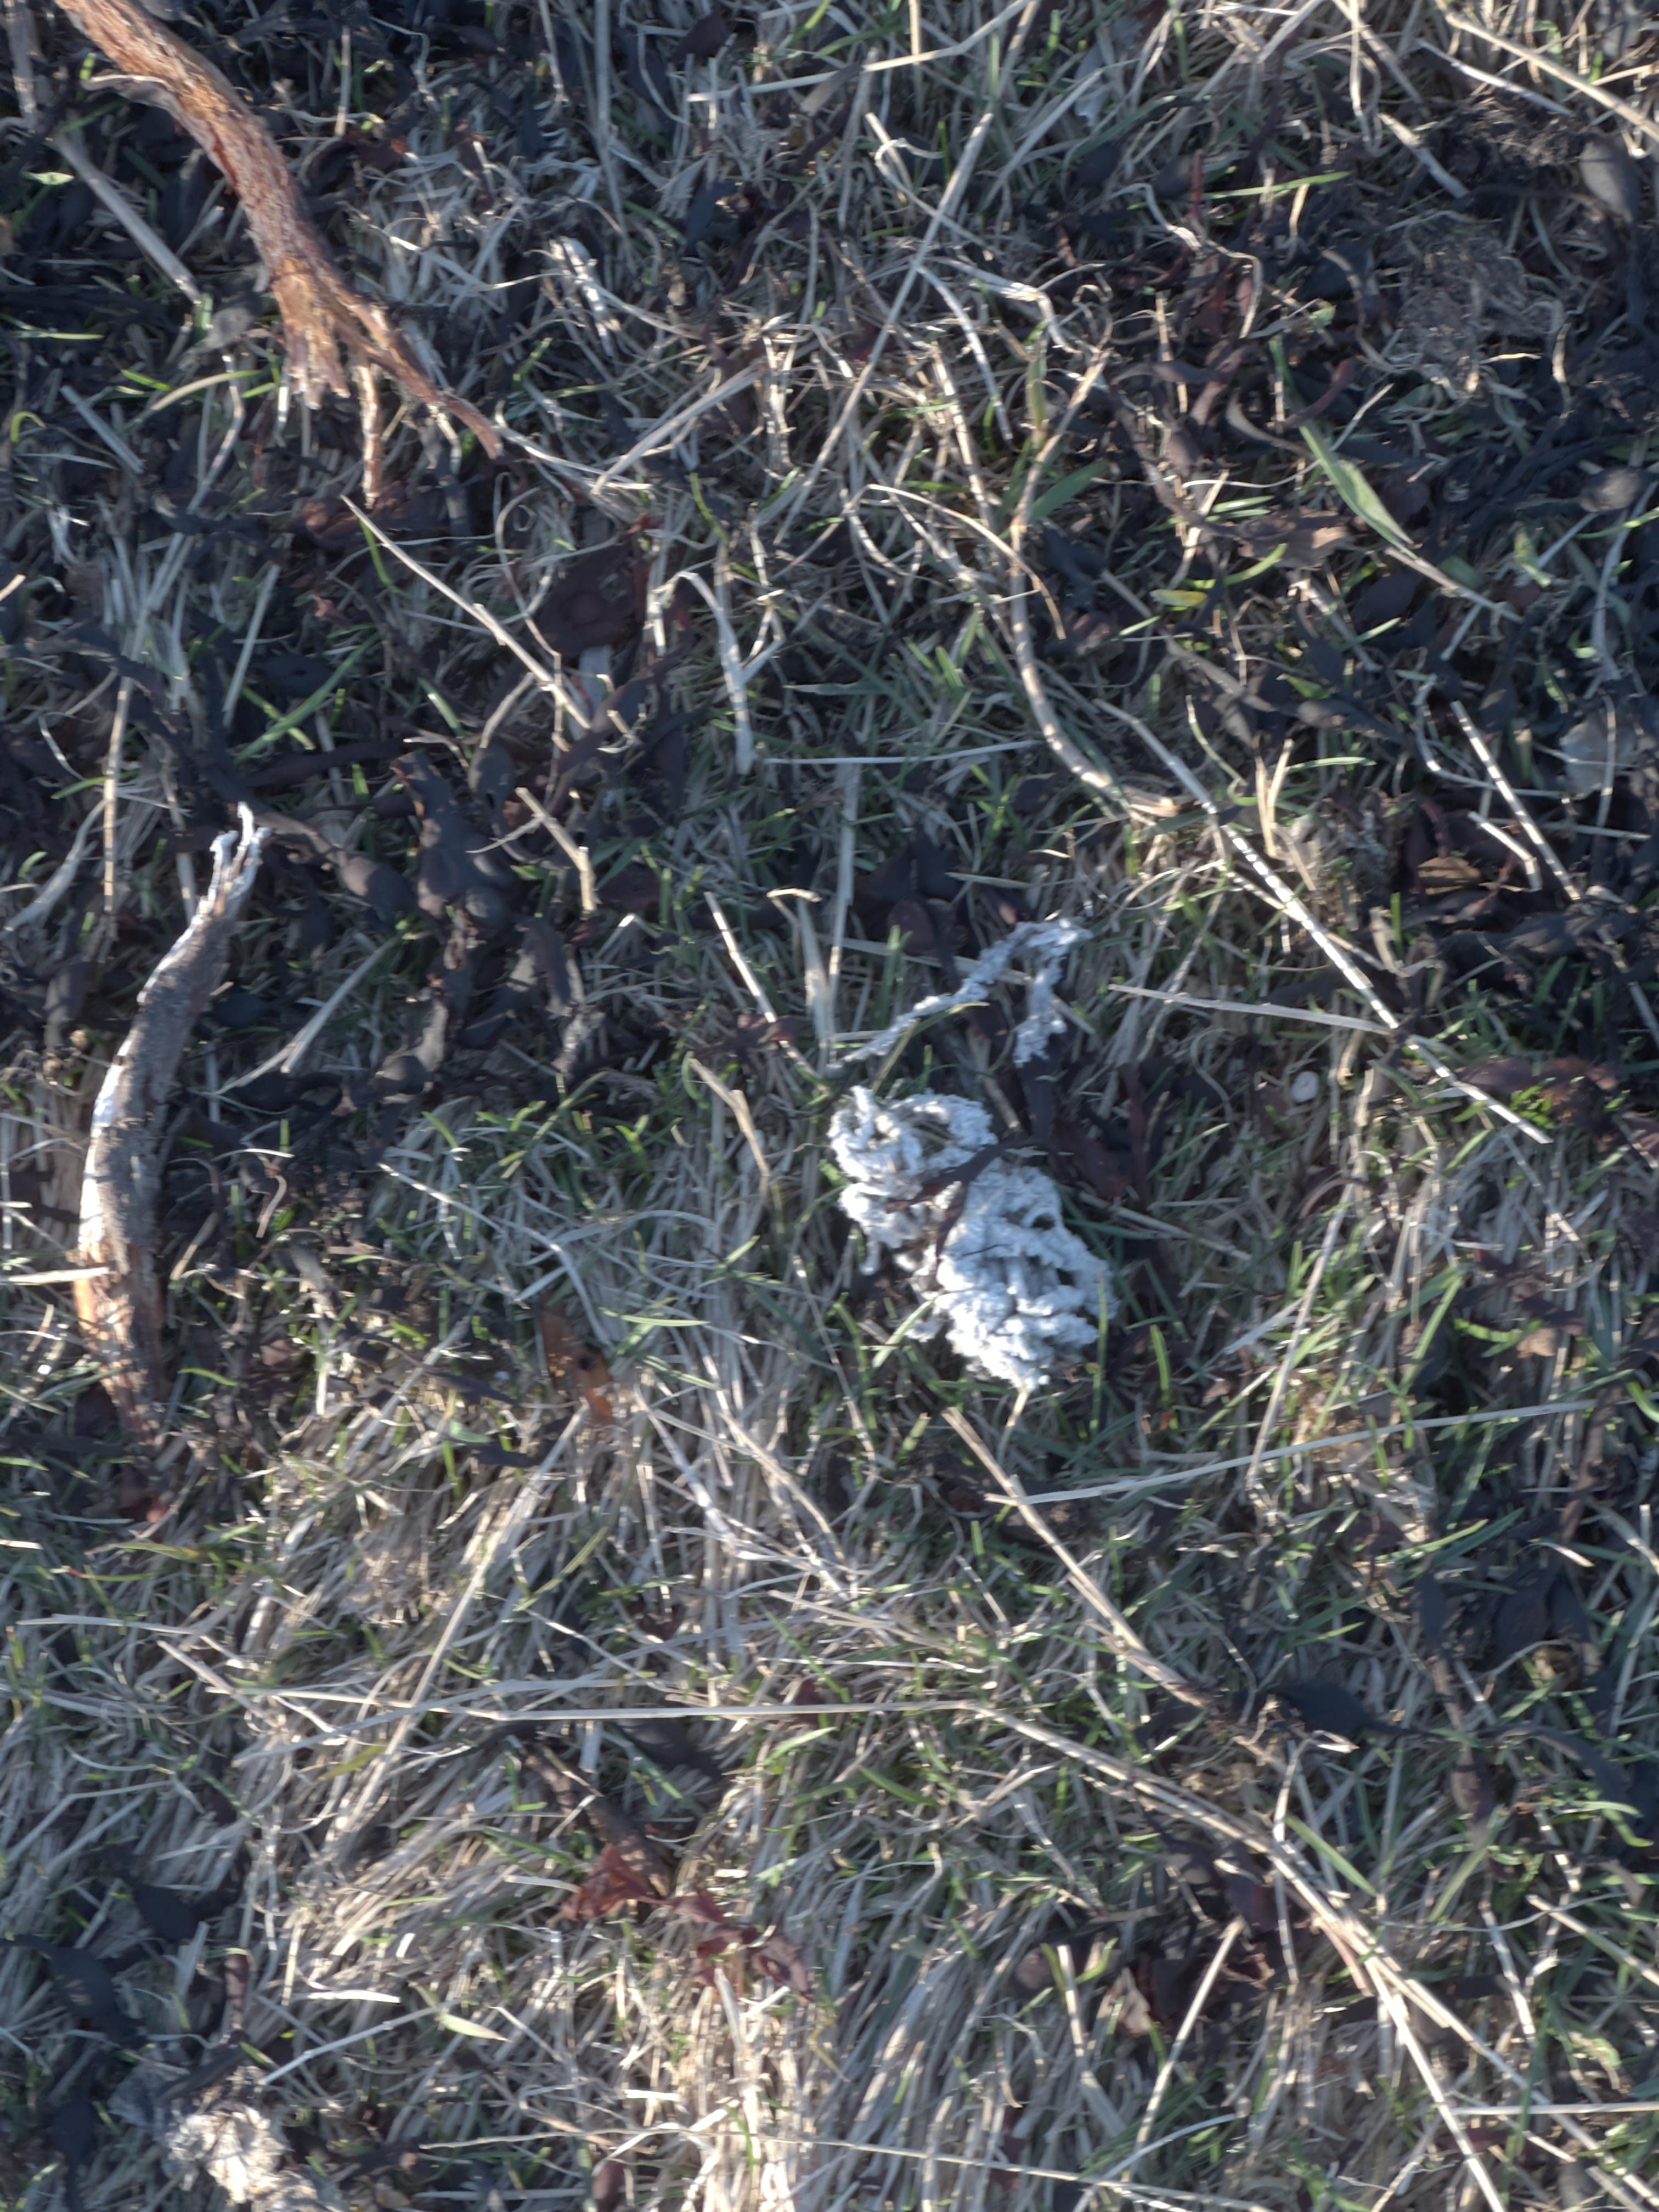trash: (830, 1089, 1115, 1392), (847, 920, 1089, 1068)
